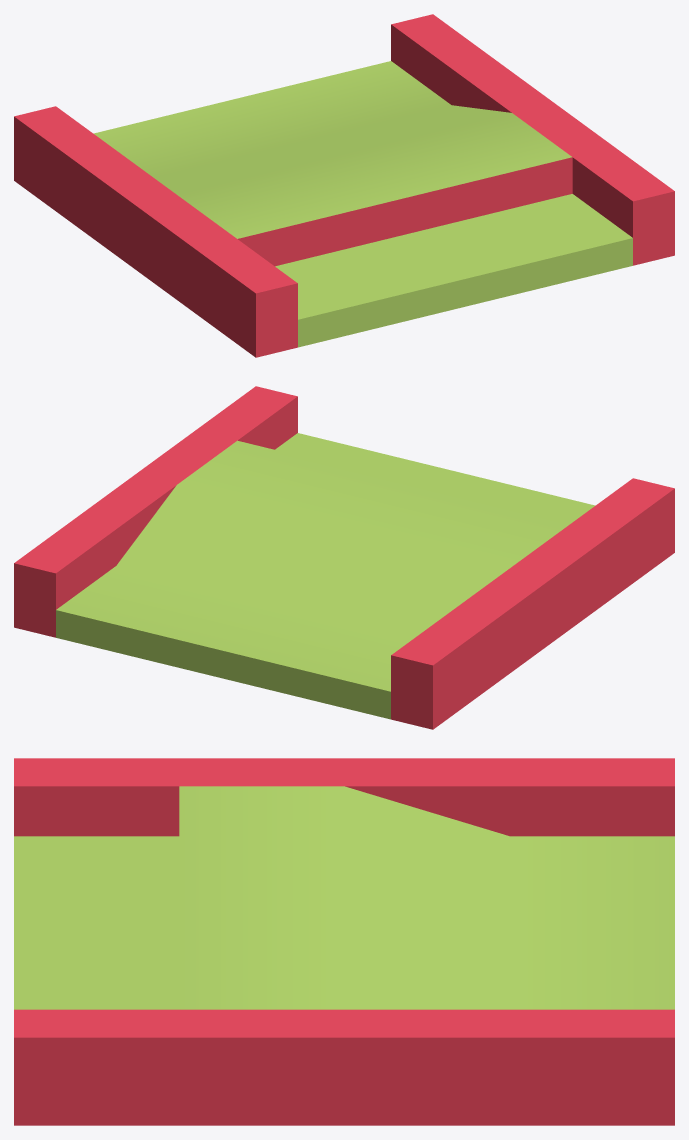
File: rampSquare.fbx
The picture shows the model from 3 angles, top to bottom: view 1: azimuth 30°, elevation 25°; view 2: azimuth 150°, elevation 25°; view 3: azimuth 270°, elevation 25°; orthographic projection. The views are drawn at different scales.
Parts seen in each view (by area): view 1: rampSquare; view 2: rampSquare; view 3: rampSquare.
Boxes of the visible parts, bbox=[...] form: rampSquare: bbox=[14, 14, 674, 357]; rampSquare: bbox=[14, 386, 674, 729]; rampSquare: bbox=[14, 758, 674, 1125].
Size of the model in its own units: 10 by 1.47 by 10.
